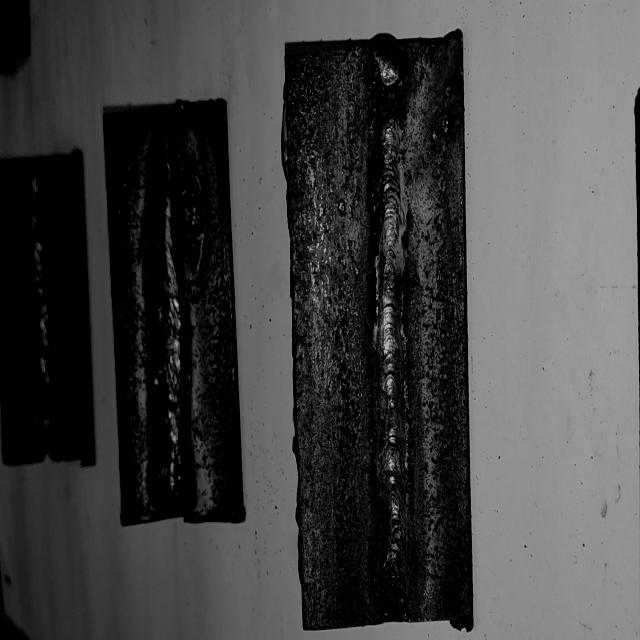Bad Weld: (374, 48, 410, 614), (160, 120, 180, 503)
Defect: (149, 146, 215, 292), (366, 52, 420, 196)
Good Weld: (23, 172, 51, 446)
